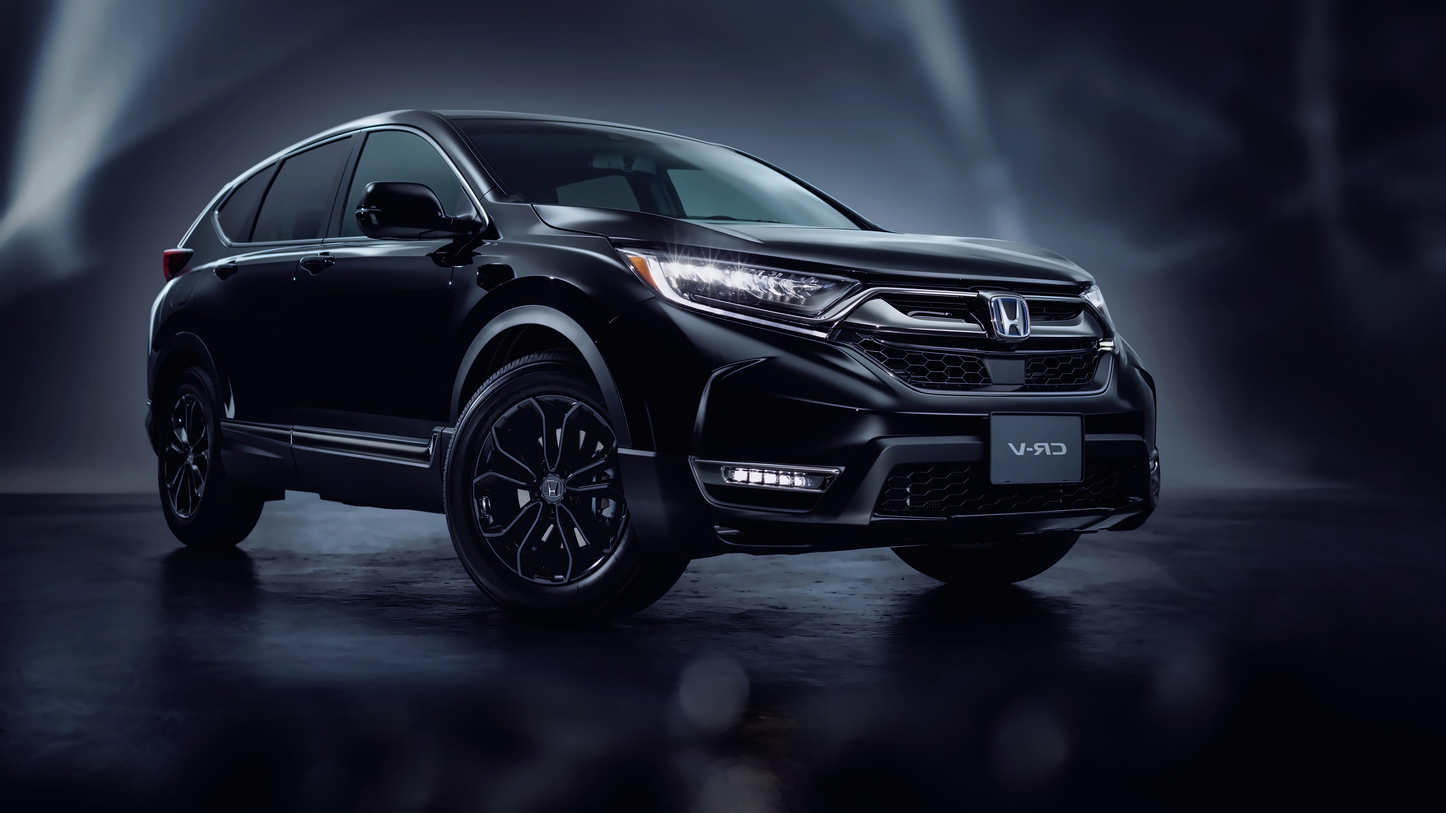Car hood: (530, 199, 1101, 291)
Driver-s door - -F-R-: (292, 117, 441, 471)
Fender - -F-R-: (442, 173, 661, 453)
Fender - -R-R-: (163, 267, 212, 404)
Front bumper: (596, 302, 1169, 575)
Headlight - -L-: (1068, 273, 1133, 355)
Headlight - -R-: (605, 233, 861, 345)
Passenger-s door - -R-R-: (192, 117, 354, 468)
Rear bumper: (137, 278, 169, 458)
Rear light - -R-: (144, 239, 204, 288)
Side bumper - -R-: (201, 409, 464, 518)
Side mirror - -R-: (348, 170, 459, 247)
